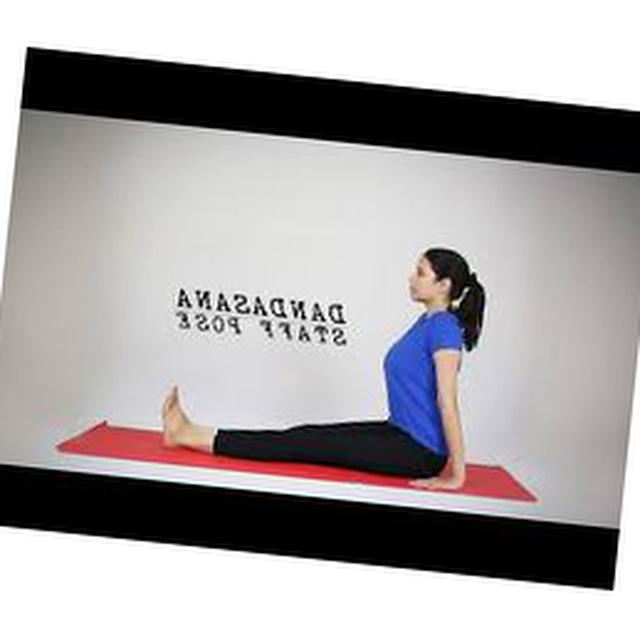Staff_Pose: (160, 247, 486, 493)
